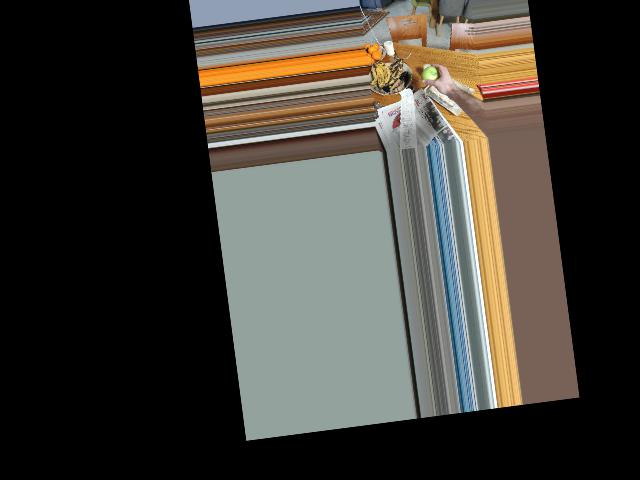apple: (420, 62, 444, 85)
